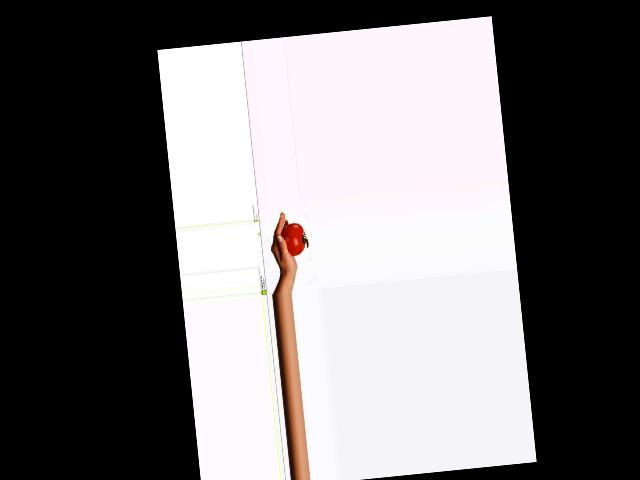tomato: (280, 222, 305, 256)
